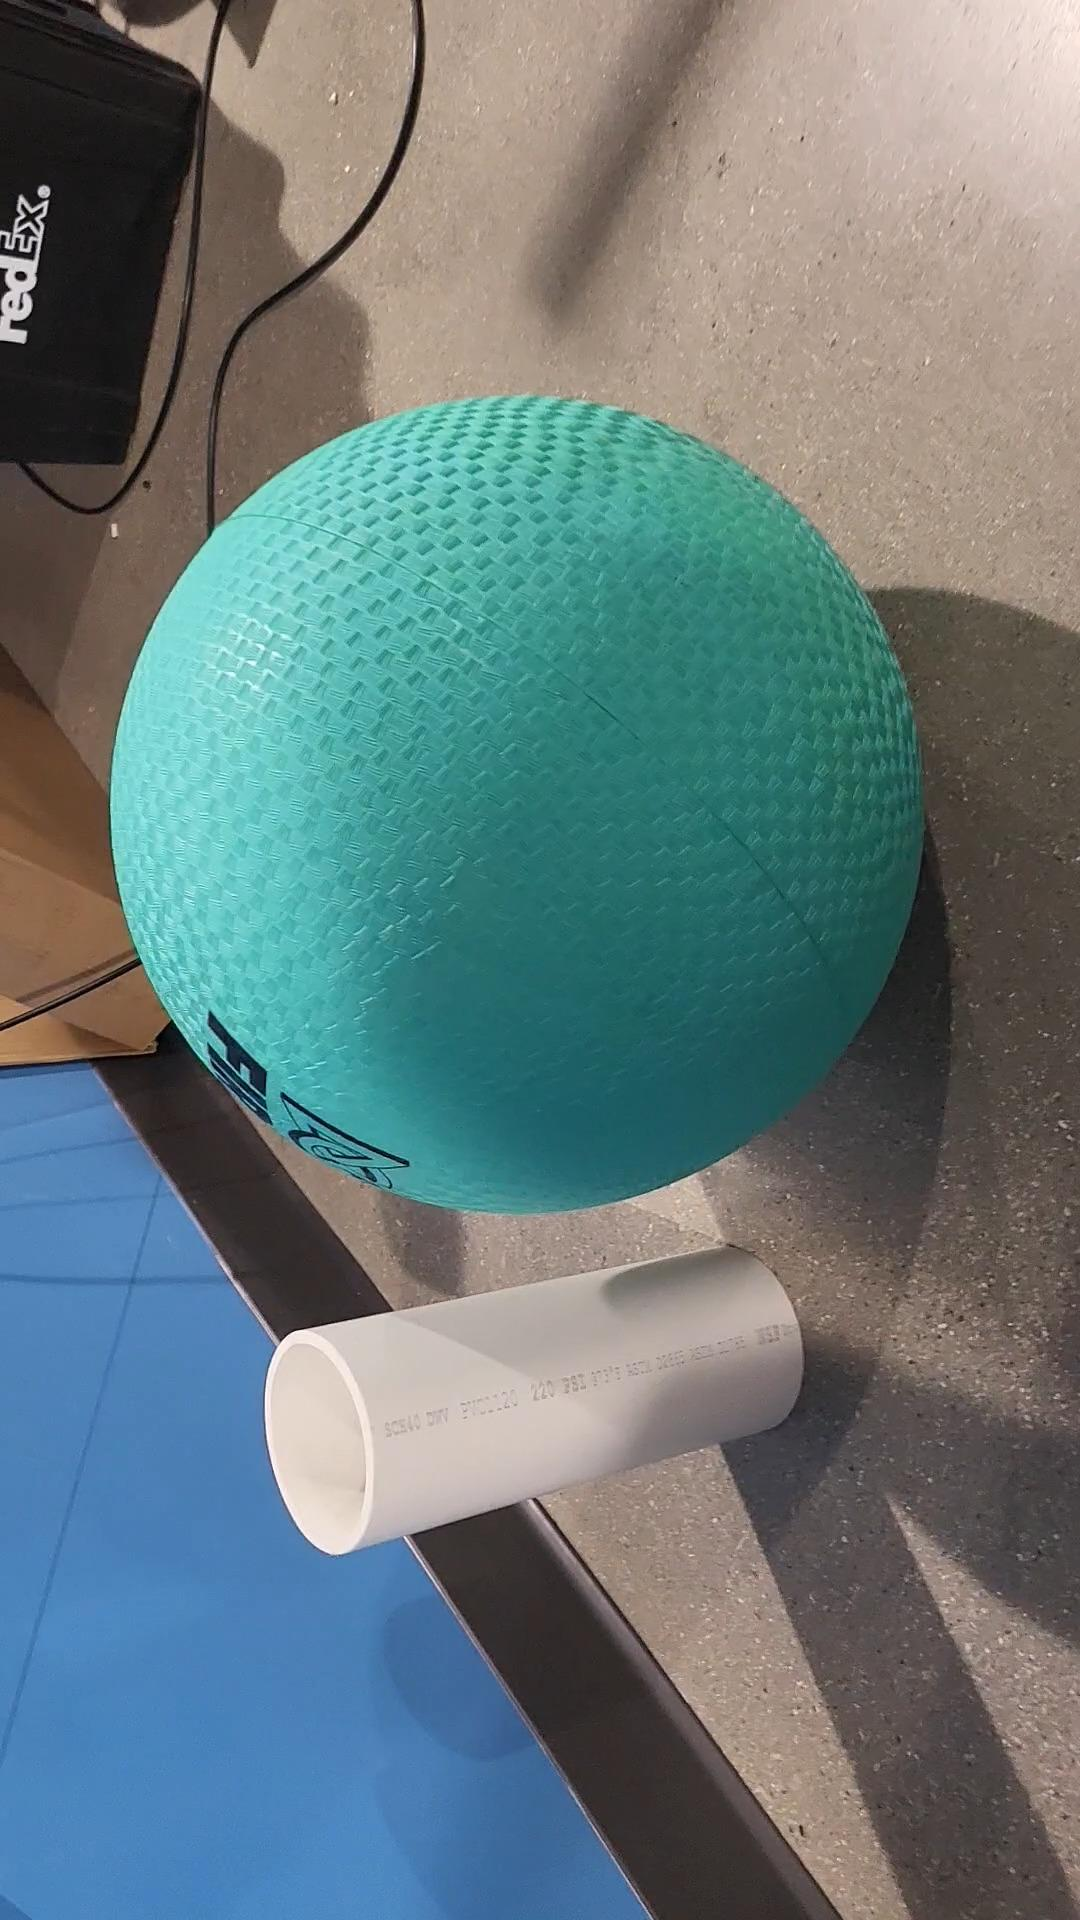algae: (116, 394, 930, 1230)
coral: (253, 1245, 814, 1553)
